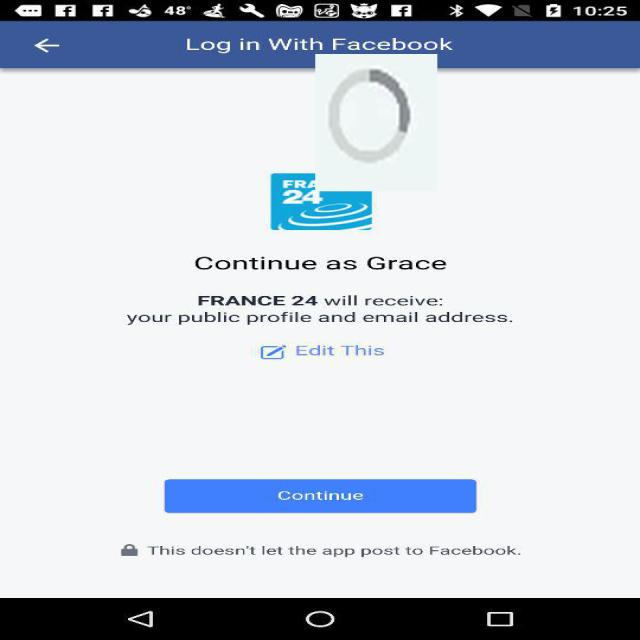misdirection: (316, 54, 438, 191)
